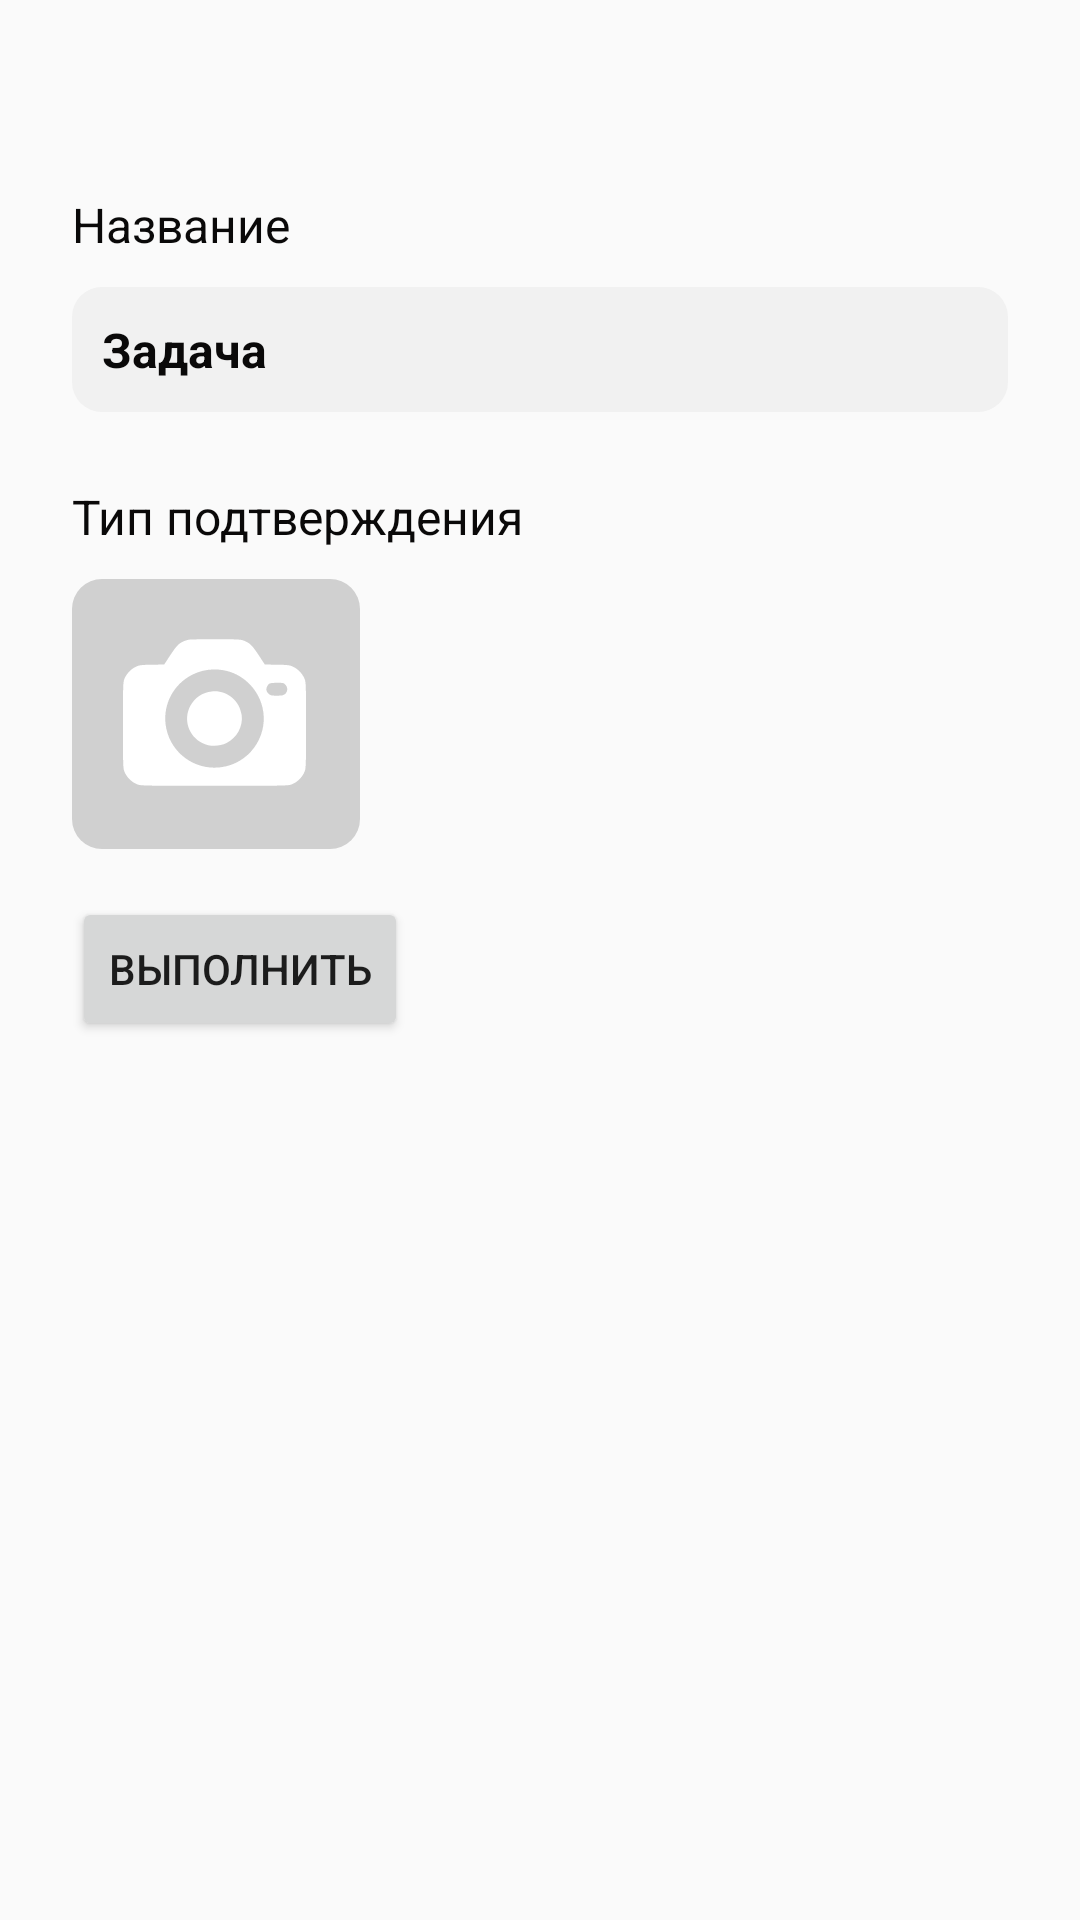

Icon click points for this 1080 × 1920 phone screenshot, format point (x, y):
photo add: point (216, 714)
